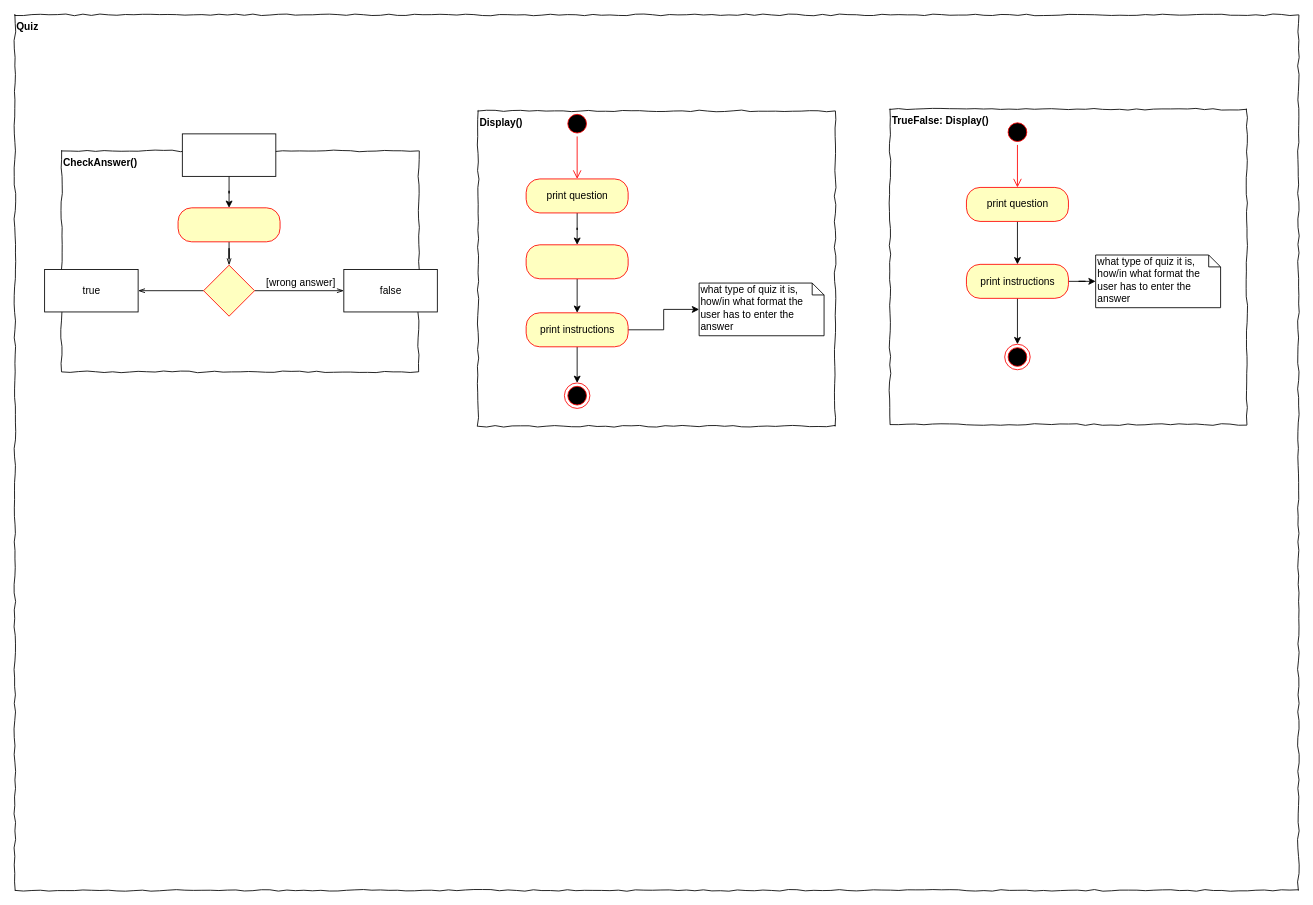
Some shapes in this 1313 by 905 pixel diagram are drawn without their labels. Each missing label, with the centre of its shape:
compare userInput to the correct answer: pixel 228 224
print answers: pixel 576 261
userInput: string: pixel 228 154
